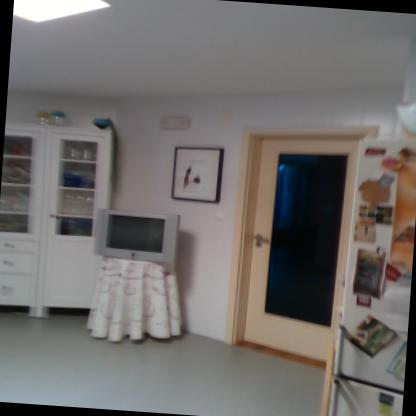closed: (221, 117, 378, 391)
